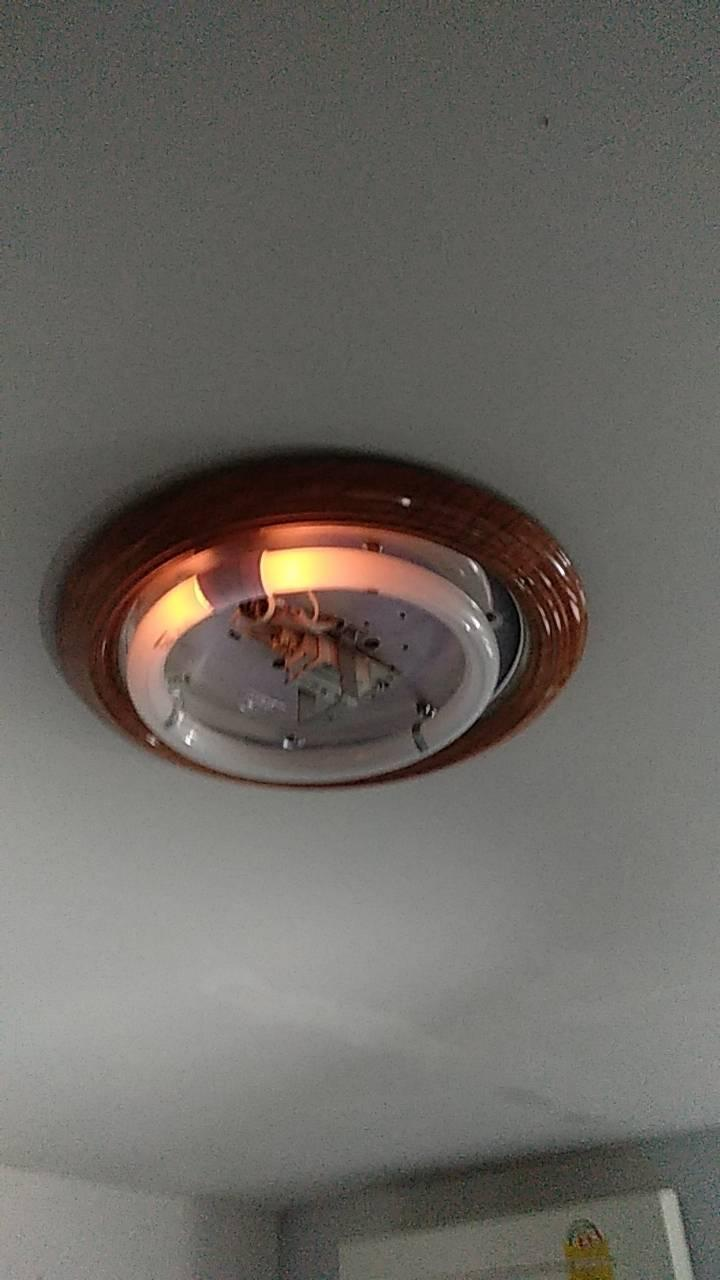Light_bulb: (122, 542, 509, 798)
